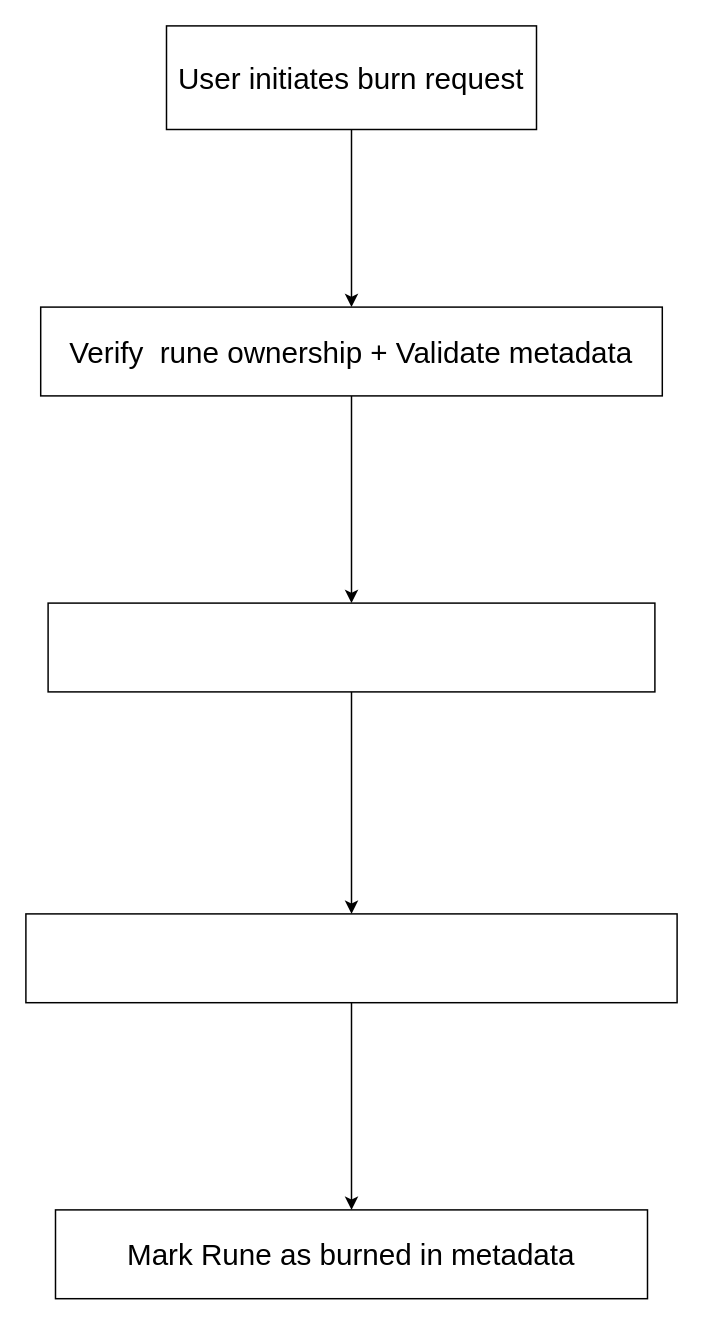
Some shapes in this 703 by 1325 pixel diagram are drawn without their labels. The shapes that lost their labels are listed below. From the top down, each one's box as (x1, y1, x2, y2) in pixels, then its label:
(47, 602, 655, 692): burn.mo --> collateral.mo --> unlocks BTC
(24, 912, 677, 1003): Send BTC back to users BTC address
